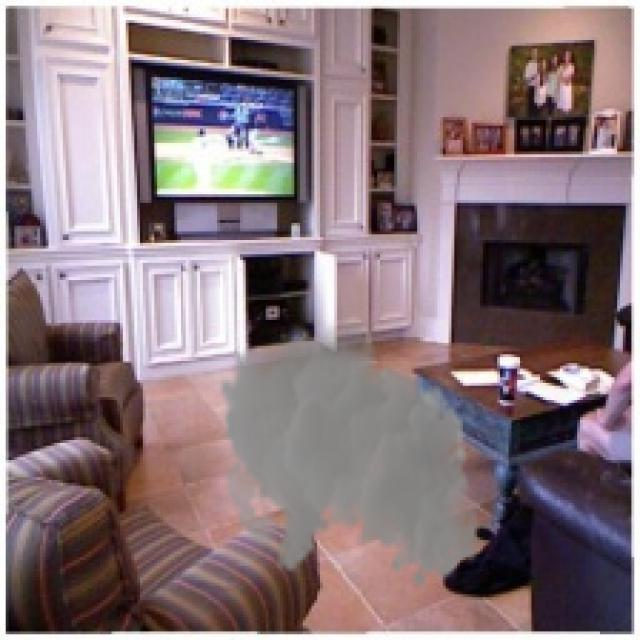Smoke: (217, 312, 480, 588)
